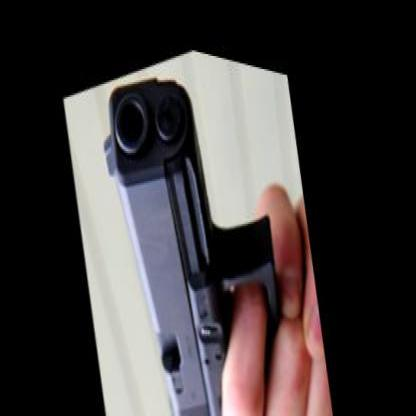pistol: (80, 19, 321, 412)
